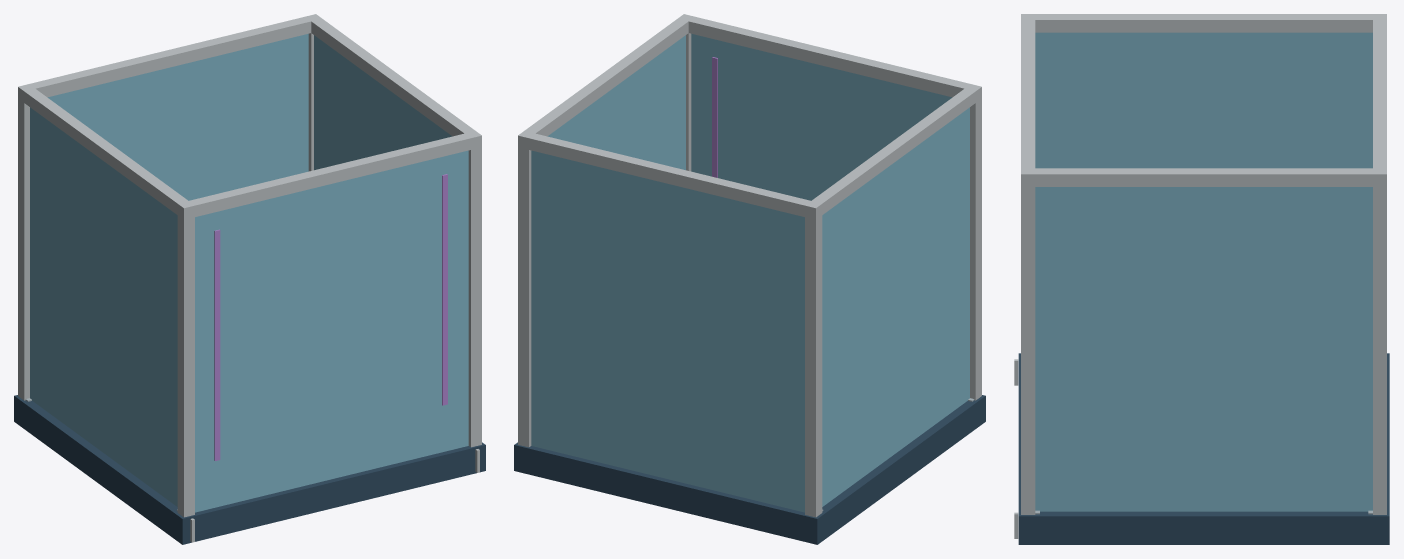
File: 44_L74_VirtualPhotoresistDeveloperModule.glb
3 views of the same model, side by side, from view 1: azimuth 30°, elevation 25°; view 2: azimuth 150°, elevation 25°; view 3: azimuth 270°, elevation 25° (orthographic). The views are drawn at different scales.
Parts seen in each view (by area): view 1: VirtualPhotoresistDeveloperModule_Node_0013, VirtualPhotoresistDeveloperModule_Node_0014, VirtualPhotoresistDeveloperModule_Node_0012, VirtualPhotoresistDeveloperModule_Node_0016, VirtualPhotoresistDeveloperModule_Node_0015, VirtualPhotoresistDeveloperModule_Node_0001, VirtualPhotoresistDeveloperModule_Node_0009, VirtualPhotoresistDeveloperModule_Node_0008, VirtualPhotoresistDeveloperModule_Node_0003, VirtualPhotoresistDeveloperModule_Node_0010, VirtualPhotoresistDeveloperModule_Node_0000, VirtualPhotoresistDeveloperModule_Node_0011 (+3 smaller); view 2: VirtualPhotoresistDeveloperModule_Node_0012, VirtualPhotoresistDeveloperModule_Node_0014, VirtualPhotoresistDeveloperModule_Node_0013, VirtualPhotoresistDeveloperModule_Node_0016, VirtualPhotoresistDeveloperModule_Node_0015, VirtualPhotoresistDeveloperModule_Node_0000, VirtualPhotoresistDeveloperModule_Node_0008, VirtualPhotoresistDeveloperModule_Node_0009, VirtualPhotoresistDeveloperModule_Node_0002, VirtualPhotoresistDeveloperModule_Node_0001, VirtualPhotoresistDeveloperModule_Node_0010, VirtualPhotoresistDeveloperModule_Node_0011 (+2 smaller); view 3: VirtualPhotoresistDeveloperModule_Node_0015, VirtualPhotoresistDeveloperModule_Node_0014, VirtualPhotoresistDeveloperModule_Node_0016, VirtualPhotoresistDeveloperModule_Node_0011, VirtualPhotoresistDeveloperModule_Node_0010, VirtualPhotoresistDeveloperModule_Node_0003, VirtualPhotoresistDeveloperModule_Node_0002, VirtualPhotoresistDeveloperModule_Node_0009, VirtualPhotoresistDeveloperModule_Node_0008.
Part boxes in pixels (x1,y1,x2,y2): VirtualPhotoresistDeveloperModule_Node_0013: [195, 150, 468, 512]; VirtualPhotoresistDeveloperModule_Node_0014: [30, 107, 177, 506]; VirtualPhotoresistDeveloperModule_Node_0012: [47, 33, 308, 200]; VirtualPhotoresistDeveloperModule_Node_0016: [14, 395, 485, 544]; VirtualPhotoresistDeveloperModule_Node_0015: [314, 35, 452, 170]; VirtualPhotoresistDeveloperModule_Node_0001: [177, 201, 194, 517]; VirtualPhotoresistDeveloperModule_Node_0009: [177, 131, 481, 217]; VirtualPhotoresistDeveloperModule_Node_0008: [18, 15, 320, 102]; VirtualPhotoresistDeveloperModule_Node_0003: [468, 131, 481, 447]; VirtualPhotoresistDeveloperModule_Node_0010: [18, 86, 194, 217]; VirtualPhotoresistDeveloperModule_Node_0000: [18, 86, 30, 400]; VirtualPhotoresistDeveloperModule_Node_0011: [307, 16, 481, 148]; VirtualPhotoresistDeveloperModule_Node_0012: [531, 150, 804, 512]; VirtualPhotoresistDeveloperModule_Node_0014: [822, 107, 969, 506]; VirtualPhotoresistDeveloperModule_Node_0013: [691, 33, 952, 200]; VirtualPhotoresistDeveloperModule_Node_0016: [514, 395, 985, 544]; VirtualPhotoresistDeveloperModule_Node_0015: [547, 35, 685, 170]; VirtualPhotoresistDeveloperModule_Node_0000: [805, 201, 822, 517]; VirtualPhotoresistDeveloperModule_Node_0008: [518, 131, 821, 219]; VirtualPhotoresistDeveloperModule_Node_0009: [680, 15, 981, 102]; VirtualPhotoresistDeveloperModule_Node_0002: [518, 131, 533, 447]; VirtualPhotoresistDeveloperModule_Node_0001: [967, 85, 981, 400]; VirtualPhotoresistDeveloperModule_Node_0010: [809, 87, 981, 218]; VirtualPhotoresistDeveloperModule_Node_0011: [518, 14, 693, 146]; VirtualPhotoresistDeveloperModule_Node_0015: [1035, 187, 1372, 511]; VirtualPhotoresistDeveloperModule_Node_0014: [1035, 32, 1372, 168]; VirtualPhotoresistDeveloperModule_Node_0016: [1018, 353, 1389, 544]; VirtualPhotoresistDeveloperModule_Node_0011: [1021, 168, 1386, 186]; VirtualPhotoresistDeveloperModule_Node_0010: [1021, 14, 1386, 32]; VirtualPhotoresistDeveloperModule_Node_0003: [1021, 168, 1035, 514]; VirtualPhotoresistDeveloperModule_Node_0002: [1373, 168, 1386, 514]; VirtualPhotoresistDeveloperModule_Node_0009: [1021, 14, 1035, 186]; VirtualPhotoresistDeveloperModule_Node_0008: [1373, 14, 1386, 186].
Size of the model in its own units: 2.32 by 2.45 by 2.26.
